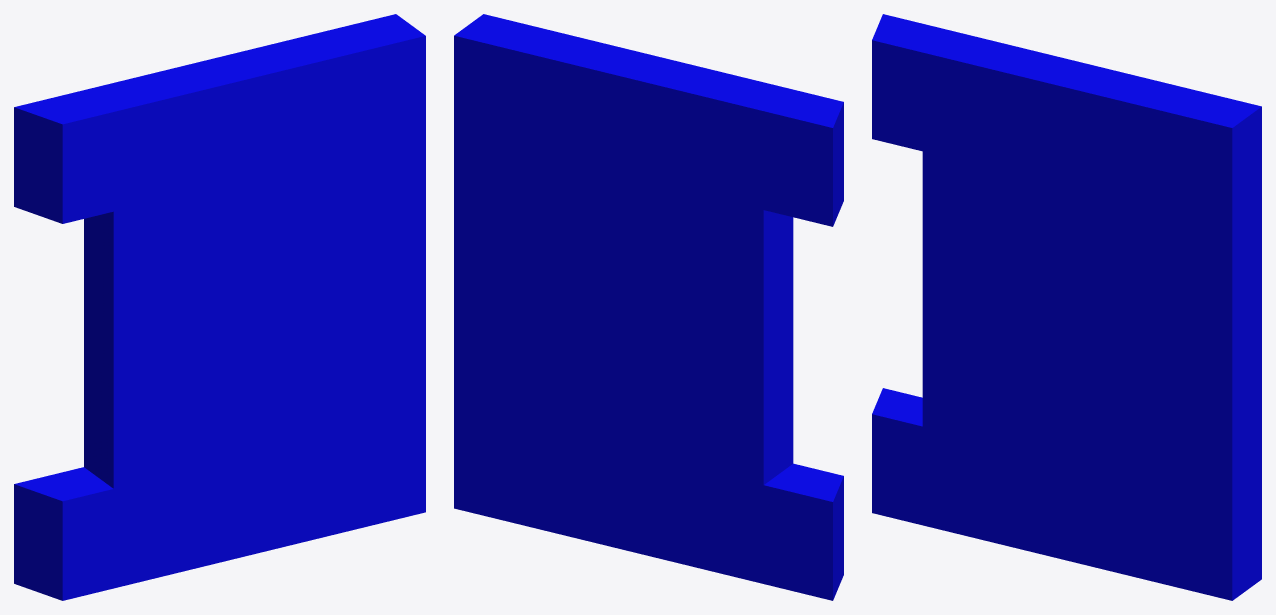
File: COLLISION_GANTRY_SOJA.dae
The picture shows the model from 3 angles, left to right: view 1: azimuth 30°, elevation 25°; view 2: azimuth 150°, elevation 25°; view 3: azimuth 330°, elevation 25°; orthographic projection.
Visible parts, largest first — view 1: COLLISION_GANTRY_SOJA; view 2: COLLISION_GANTRY_SOJA; view 3: COLLISION_GANTRY_SOJA.
Boxes of the visible parts, <box> form: COLLISION_GANTRY_SOJA: <box>14,14,425,600</box>; COLLISION_GANTRY_SOJA: <box>454,14,843,600</box>; COLLISION_GANTRY_SOJA: <box>872,14,1261,600</box>.
Size of the model in its own units: 0.9228 by 1.1 by 0.1247.
